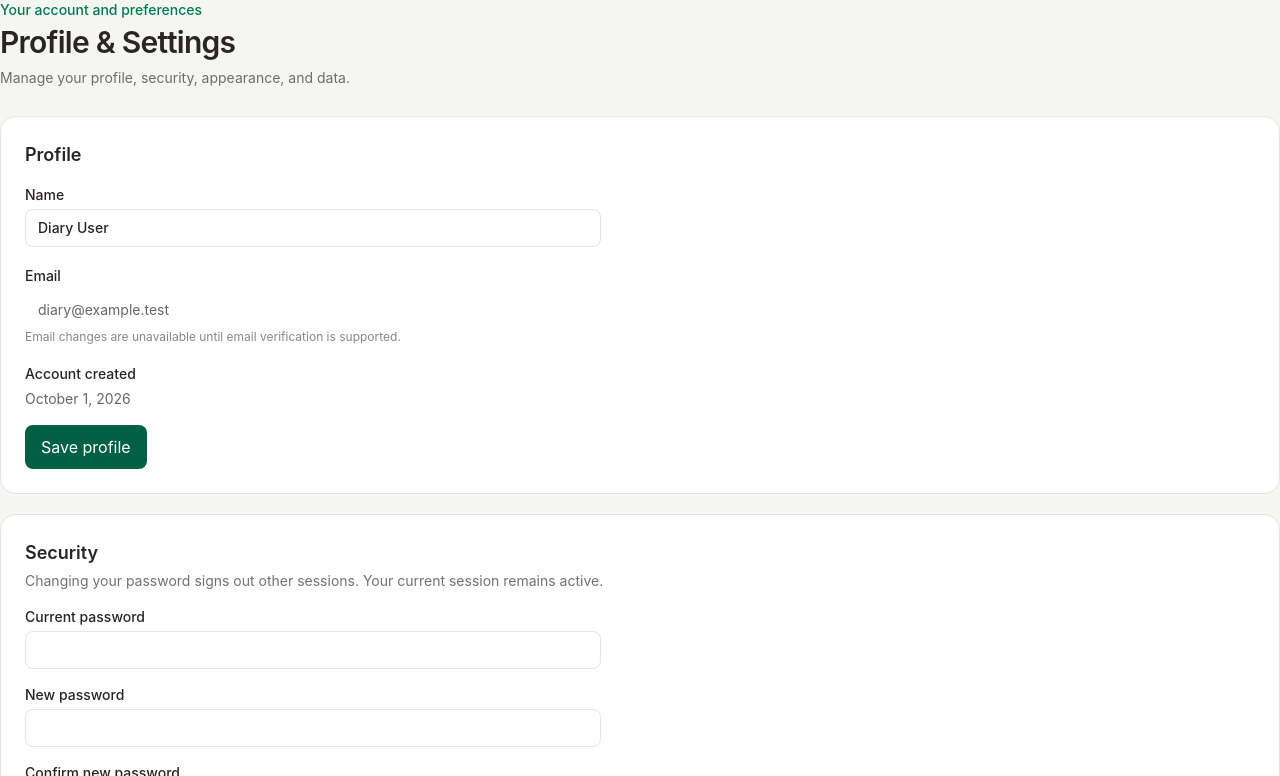
ProfileSettings › validates and submits secure password changes
In the password field labelled "Current password": (313, 650) [25, 631, 601, 669], type "old secure password"
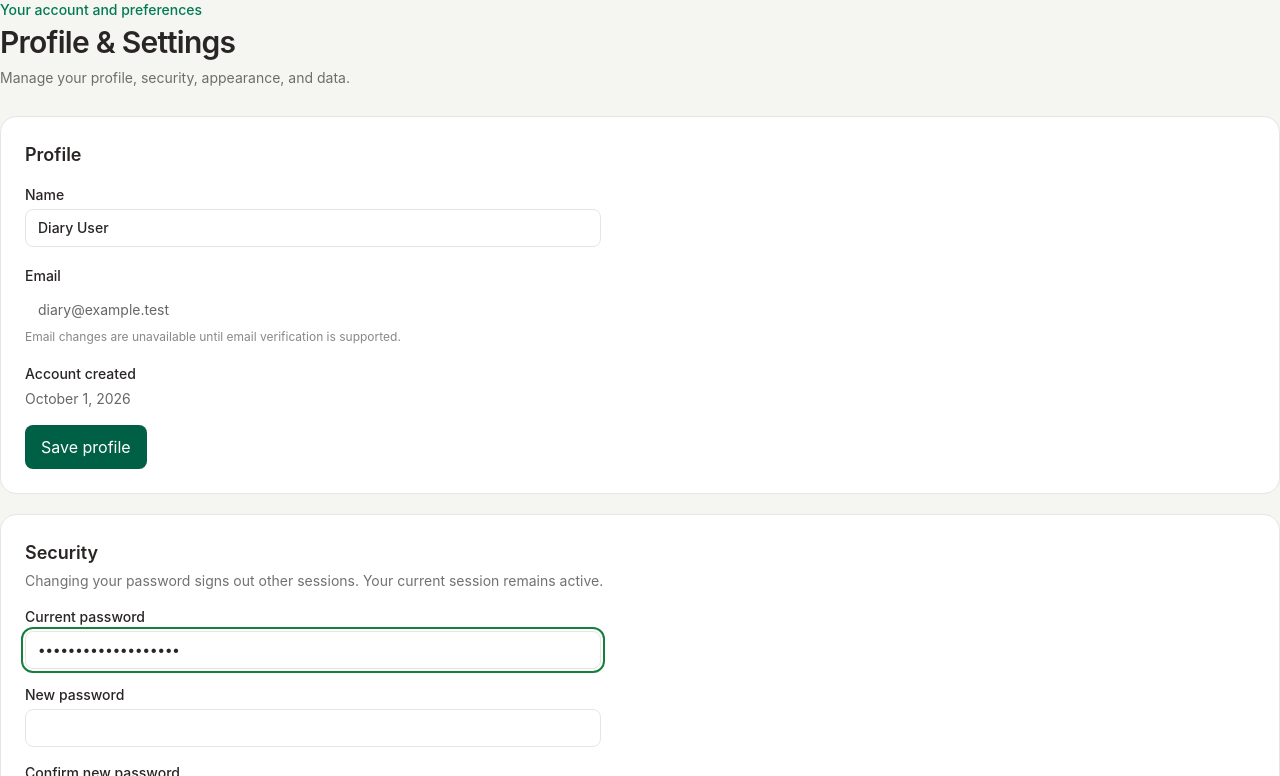
In the password field labelled "New password": (313, 728) [25, 709, 601, 747], type "new secure password"
(page scrolled)
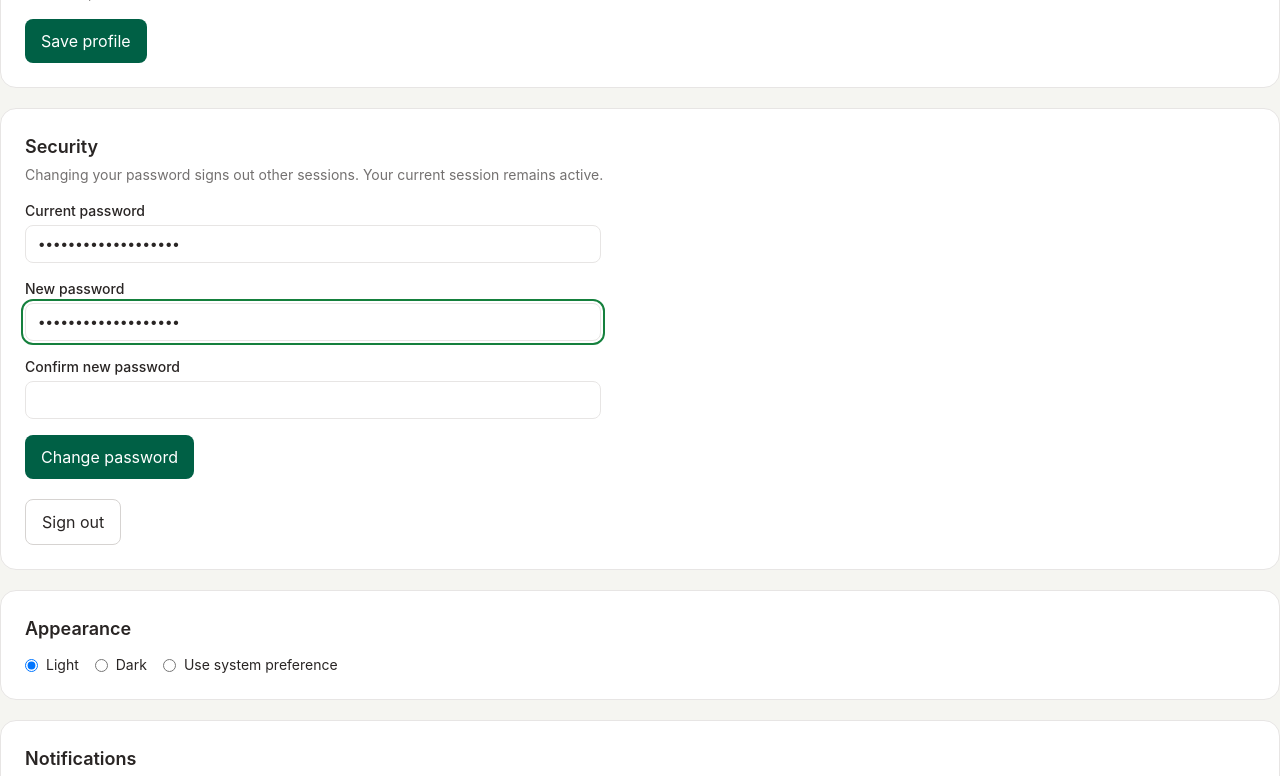
In the password field labelled "Confirm new password": (313, 400) [25, 381, 601, 419], type "different password"
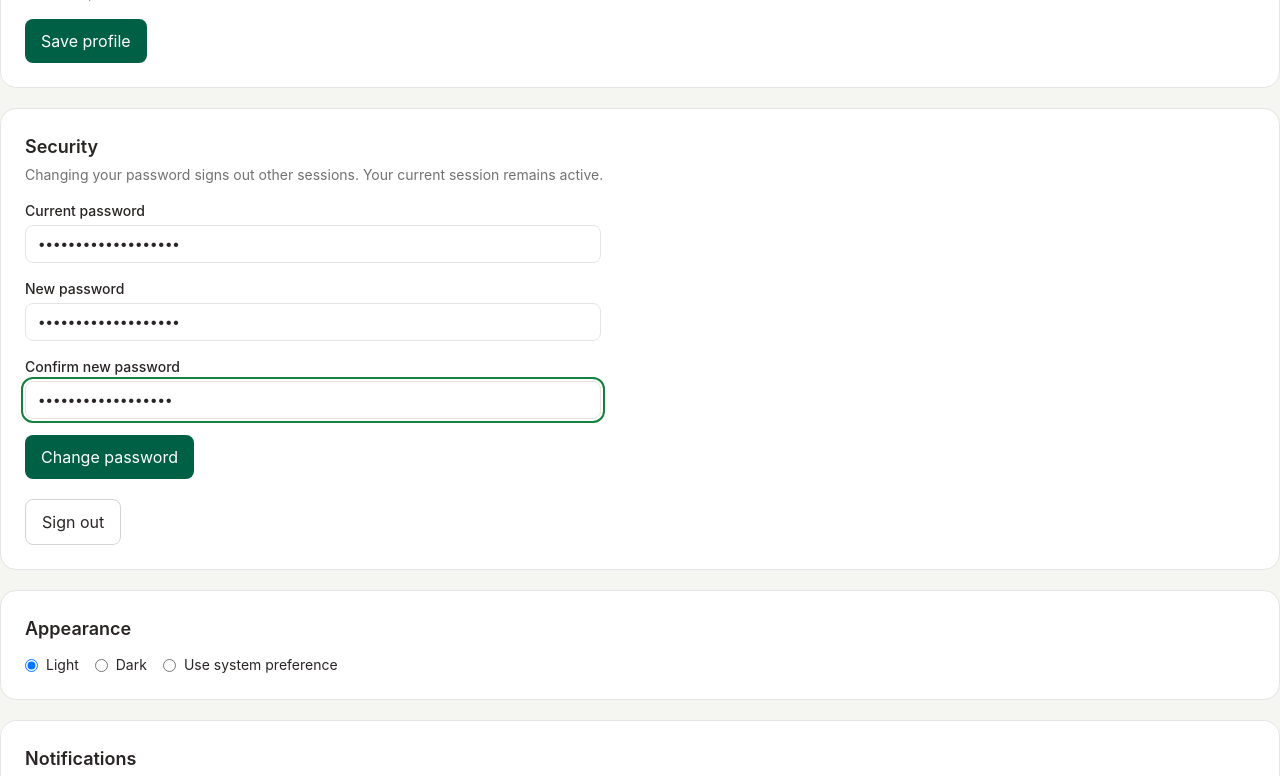
Click the button "Change password": (110, 457) [25, 435, 194, 479]
(page scrolled)
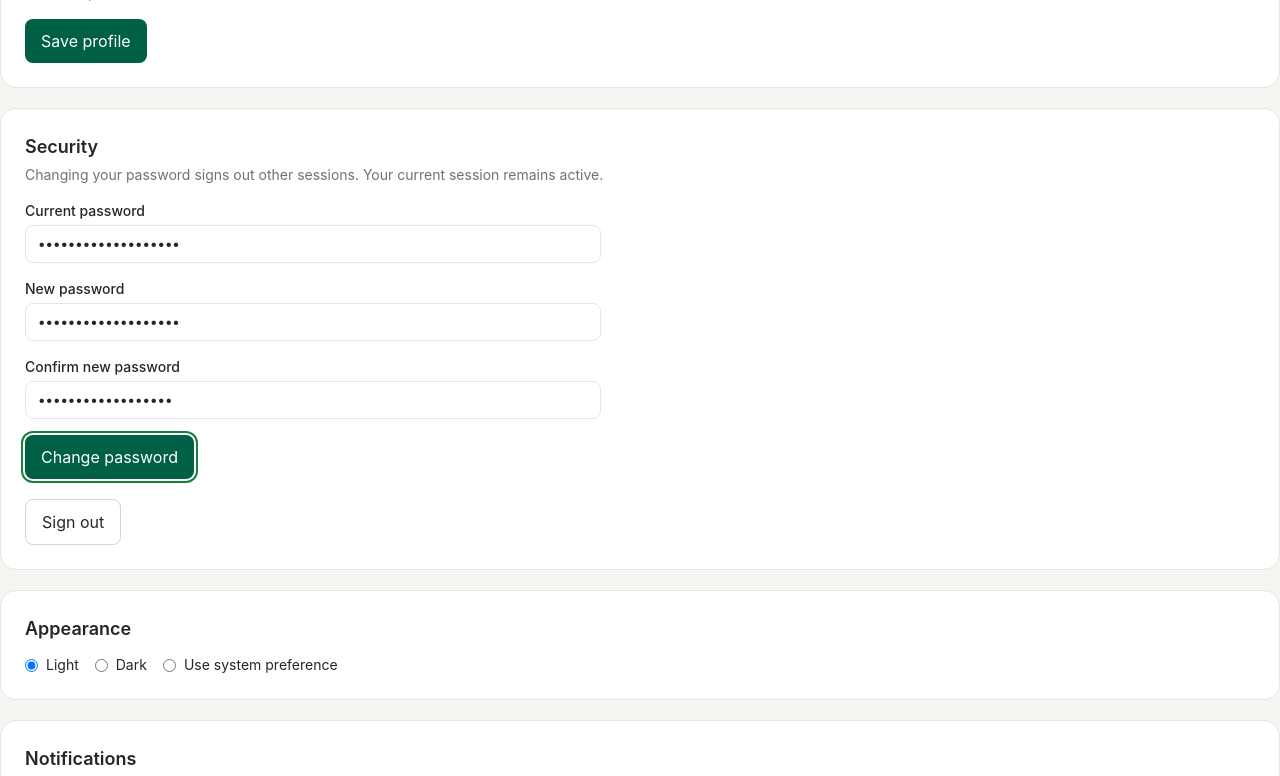
In the password field labelled "Confirm new password": (313, 400) [25, 381, 601, 419], type "new secure password"
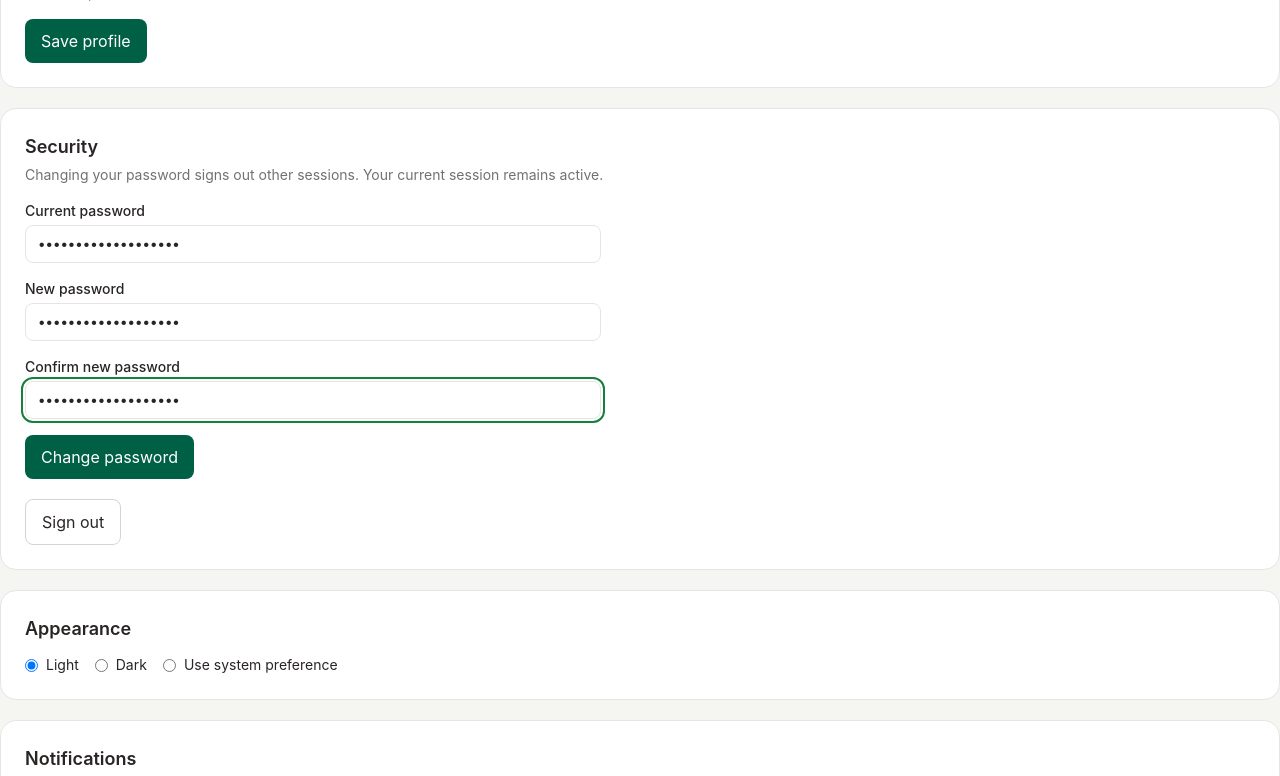
Click the button "Change password": (110, 457) [25, 435, 194, 479]
(page scrolled)
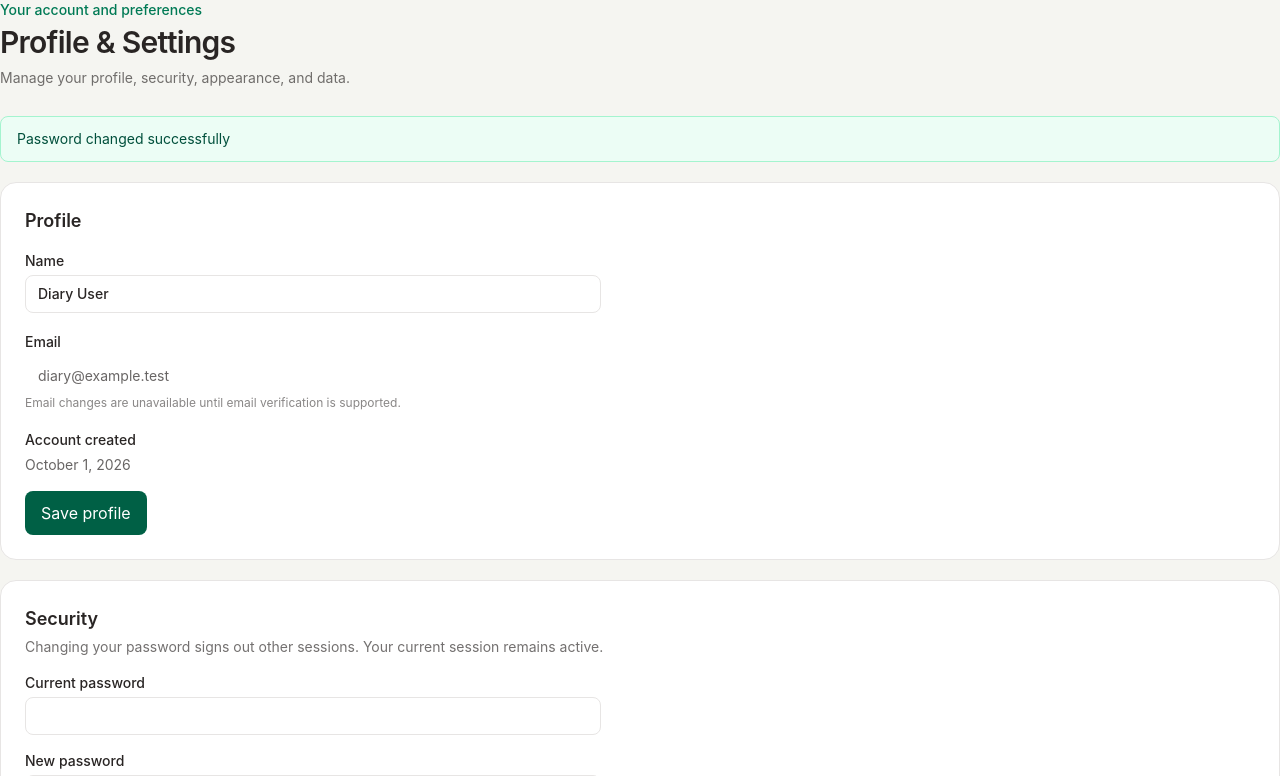
Result: the message reads "Password changed successfully" at [17, 130, 230, 147]
